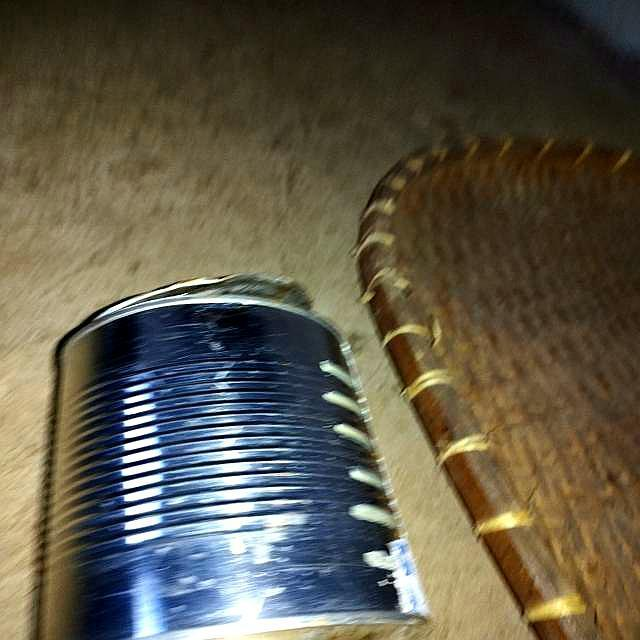Non-biodegradable: (41, 270, 432, 638)
